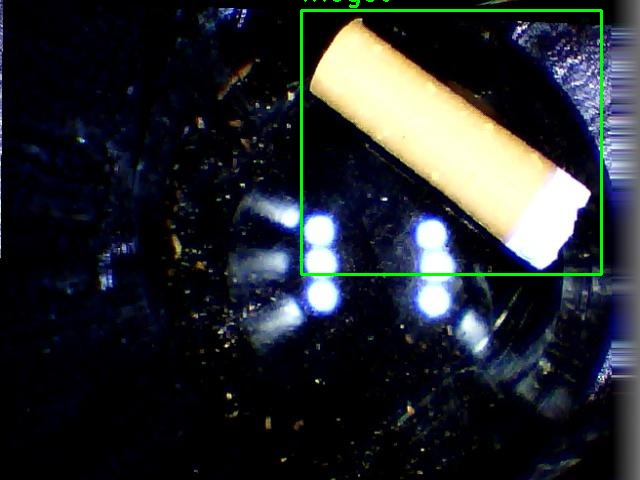megot: (301, 10, 601, 274)
